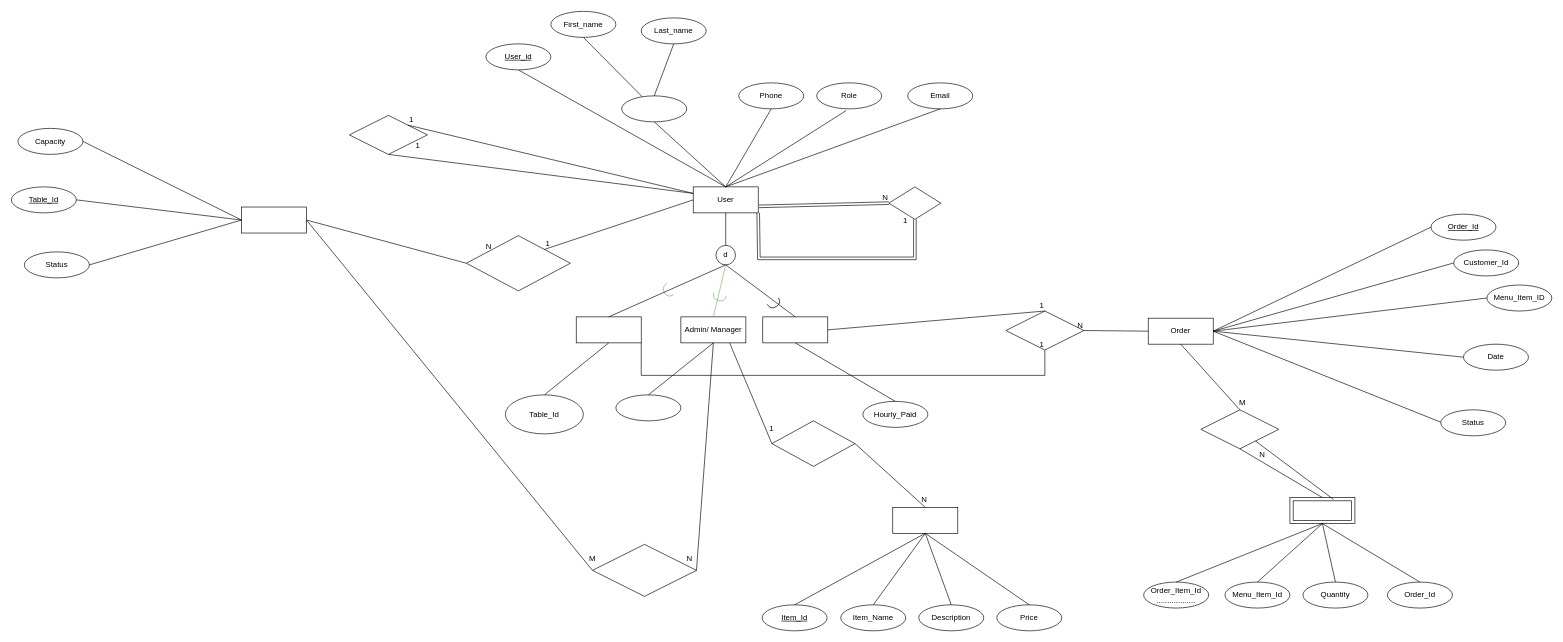
Some shapes in this 1563 by 642 pixel diagram are drawn without their labels. The centre of each missing label's shape, as x and y in pixels:
"Accept/Reject_Reservation" goes at (644,570).
"Add/Modefy_Reservation" goes at (518,263).
"Add/Update_Menu_Item" goes at (813,443).
"Customer" goes at (608,329).
"Has" goes at (1239,429).
"Menu_Item" goes at (925,520).
"Name" goes at (654,108).
"Order_Item" goes at (1322,510).
"Order_Placment" goes at (1044,330).
"salary" goes at (648,407).
"Sign_Up" goes at (914,202).
"Table" goes at (273,219).
"Update_Details" goes at (388,134).
"Waiter" goes at (795,329).
